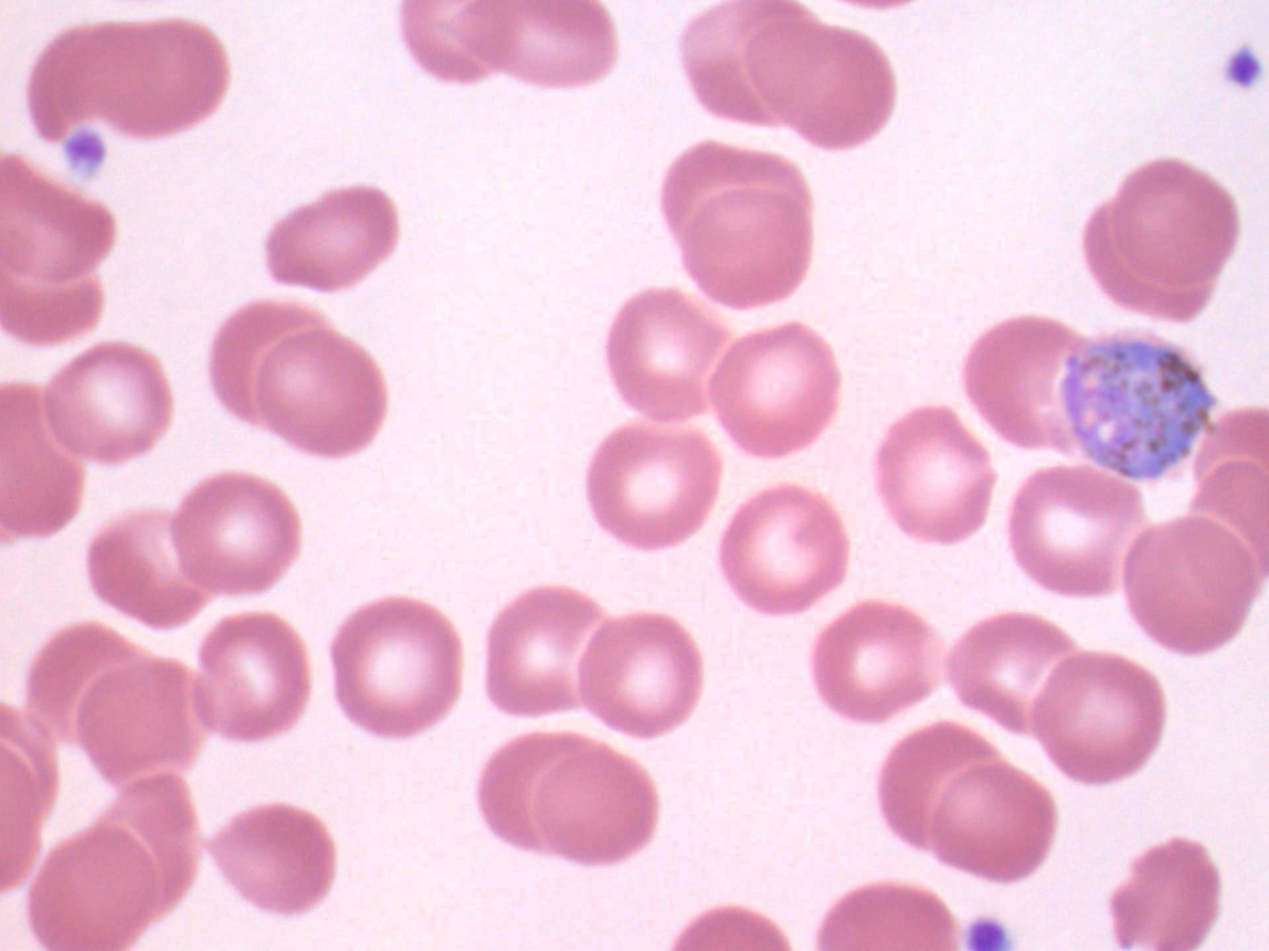Infected: (1056, 329, 1217, 479)
Uninfected: (744, 19, 894, 151), (74, 17, 231, 140), (258, 324, 393, 463), (601, 288, 739, 422), (1011, 465, 1150, 598), (330, 598, 465, 734), (73, 661, 219, 784), (1124, 517, 1253, 656), (1028, 653, 1163, 785), (684, 0, 826, 125), (677, 182, 813, 310), (806, 602, 944, 727), (583, 422, 722, 546), (1110, 157, 1239, 290), (720, 486, 853, 615), (965, 311, 1087, 451), (875, 403, 995, 543), (714, 321, 838, 456), (172, 470, 301, 596), (659, 139, 810, 245), (0, 159, 124, 288), (23, 620, 168, 730), (577, 612, 703, 738), (489, 582, 605, 718), (93, 779, 204, 919), (210, 294, 333, 419), (476, 731, 608, 847), (879, 724, 1003, 846), (33, 830, 159, 950), (210, 803, 340, 919), (48, 341, 171, 463), (932, 764, 1056, 882), (264, 180, 394, 292), (958, 610, 1073, 735), (532, 749, 660, 861), (0, 384, 89, 542), (463, 0, 619, 90), (1110, 833, 1225, 951), (207, 615, 315, 739), (89, 519, 204, 635), (403, 0, 522, 88), (0, 261, 102, 340)
